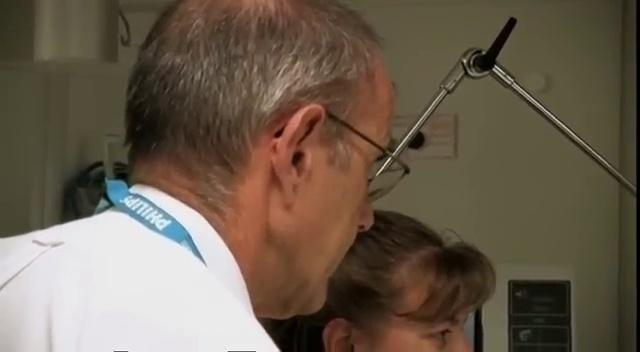doctor: (0, 0, 401, 351)
